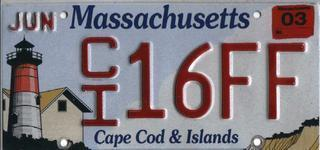placa de veiculo: (3, 2, 315, 148)
